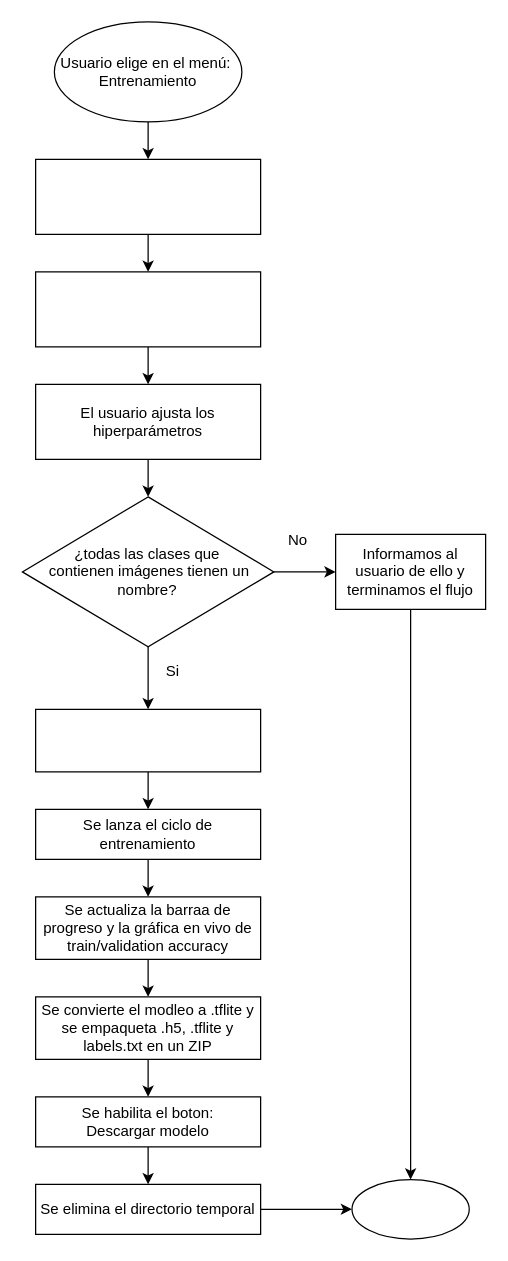
The diagram is 508 pixels wide and 1261 high, and some of its shapes have lost their labels. Here are the shapes that lost their labels. From the top down, the centre of each, then its label:
the point at 147,196: Indica cuantas clases quiere (de 2 a 26) y escribe el nombre de cada clase
the point at 147,309: Para cada clase se añaden imágenes
the point at 147,740: Se copia los ficheros a un direcotrio temporal creando así el conjunto de datos
the point at 410,1208: Fin
